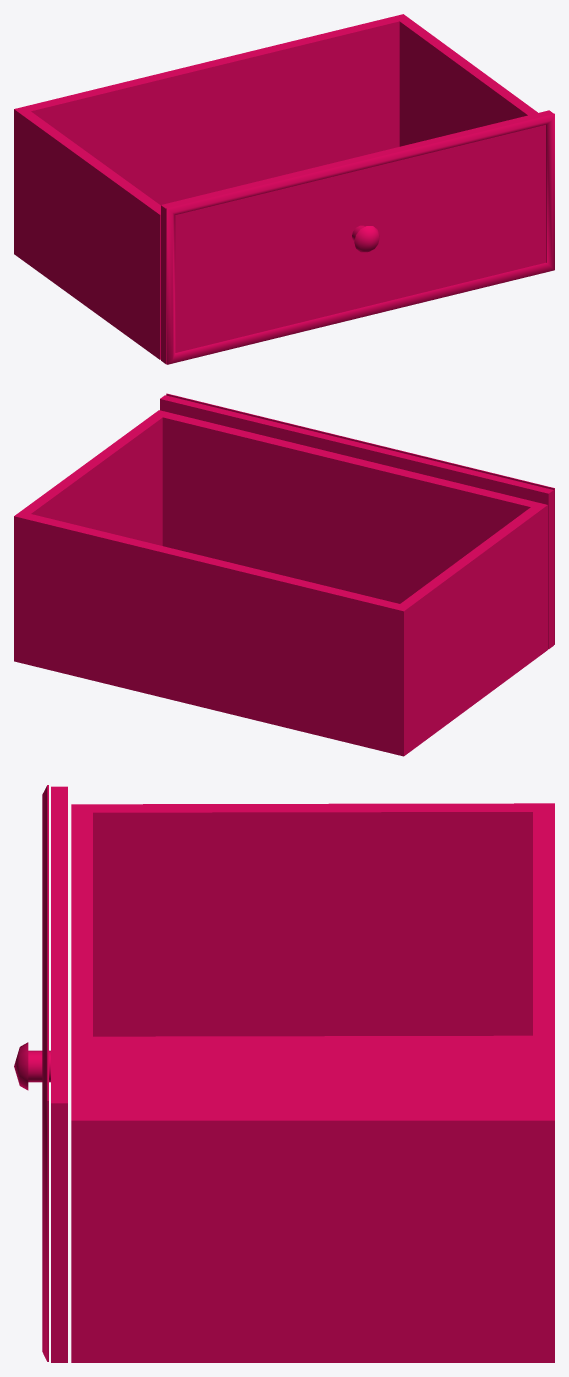
Rendered from Cupboard_10_Drawer_01.fbx.
3 views of the same model, one above another, from view 1: azimuth 30°, elevation 25°; view 2: azimuth 150°, elevation 25°; view 3: azimuth 270°, elevation 25° (orthographic). The views are drawn at different scales.
Visible parts, largest first — view 1: Cupboard_10_Drawer_01; view 2: Cupboard_10_Drawer_01; view 3: Cupboard_10_Drawer_01.
Part boxes in pixels (x1,y1,x2,y2): Cupboard_10_Drawer_01: (14, 14, 554, 364); Cupboard_10_Drawer_01: (14, 393, 554, 756); Cupboard_10_Drawer_01: (14, 785, 554, 1362).
Size of the model in its own units: 59.02 by 22.67 by 42.52.
